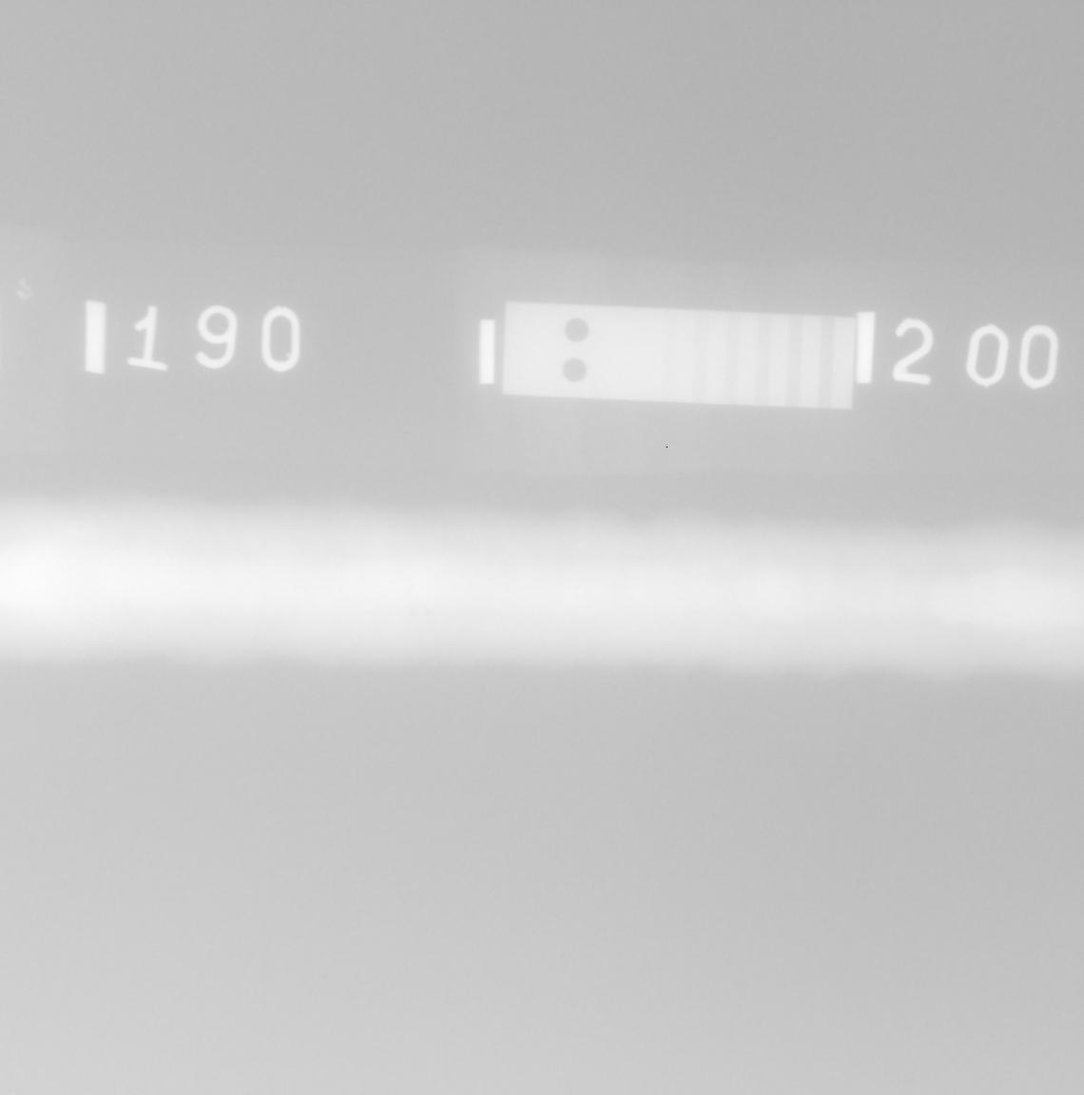Pore/Porosity: (409, 611, 415, 617), (425, 610, 432, 615), (409, 583, 416, 588), (388, 580, 392, 584)
